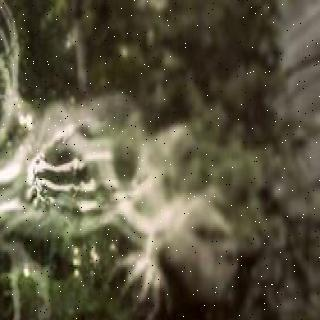smoke: (0, 125, 196, 296)
